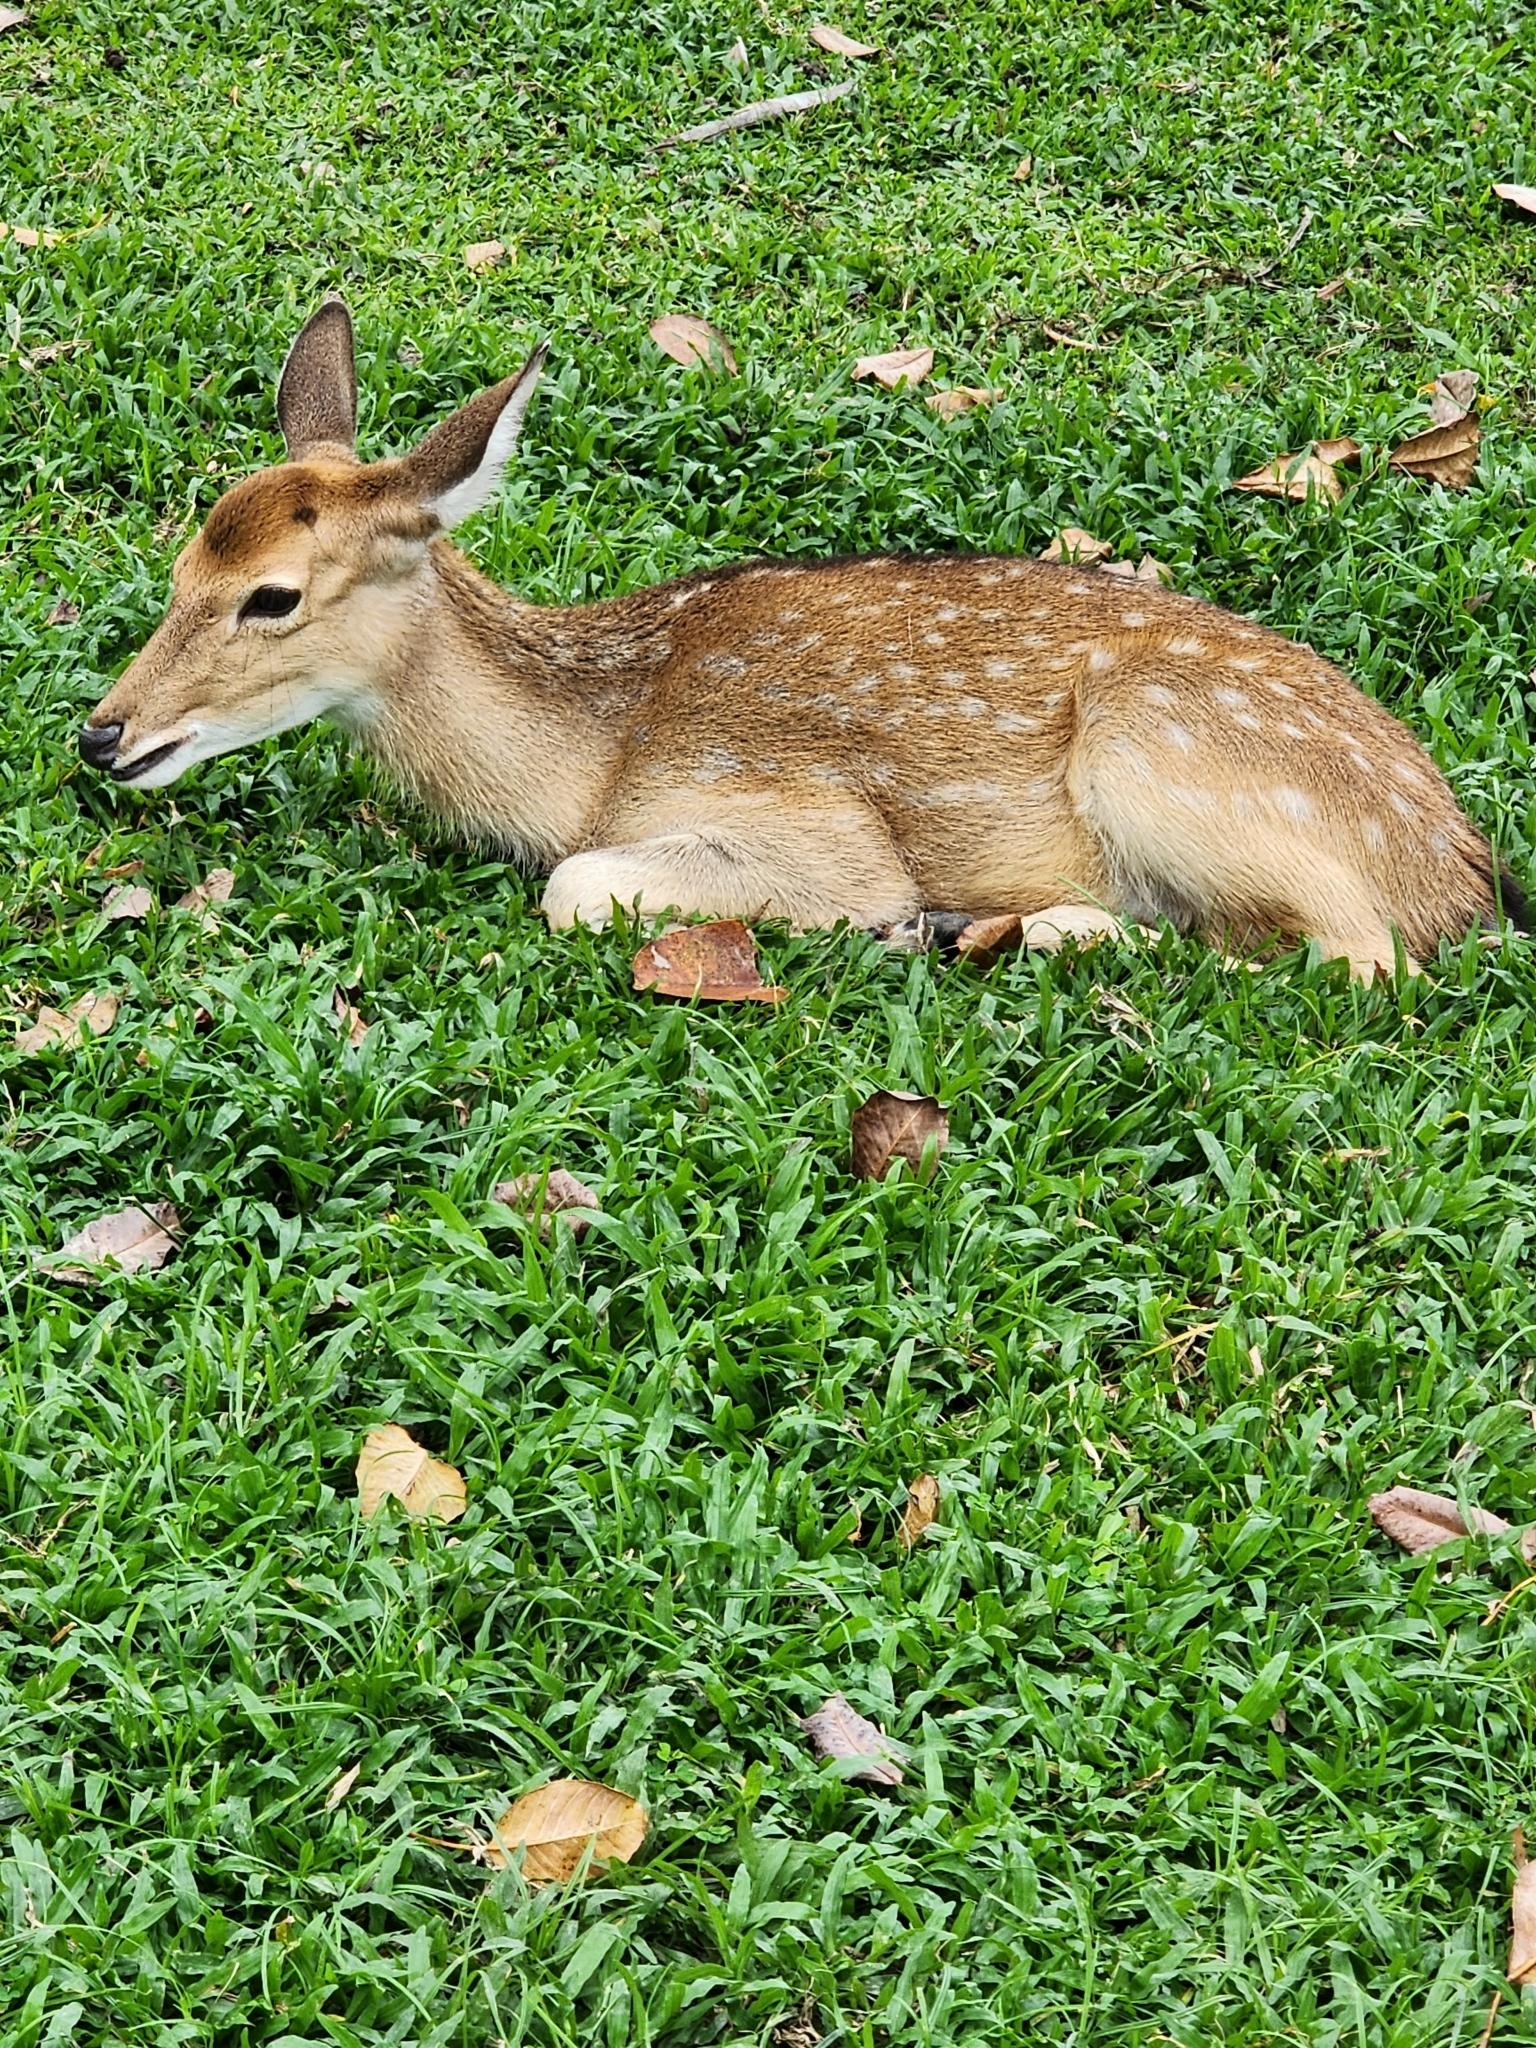Deer: (79, 298, 1532, 979)
